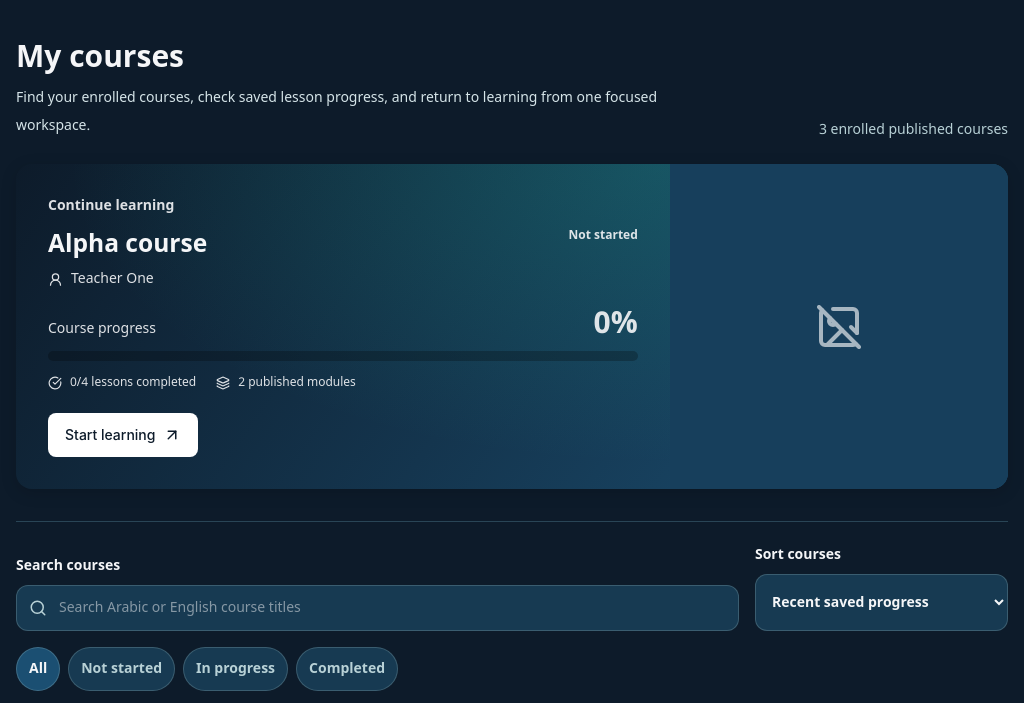
it: StudentCoursesLearningHub › requests and renders a server progress filter
Expected: the heading "Alpha course" is shown, [48,228,207,261]
Click the button "Completed" at (347, 669), box [296,647,398,691]
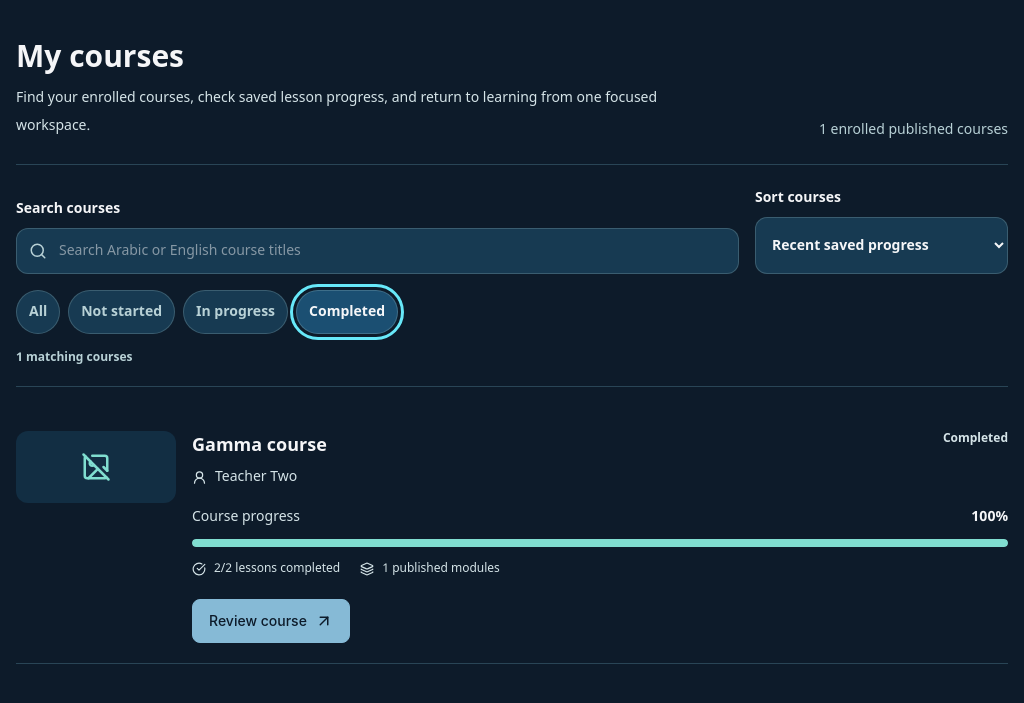
Expected: the heading "Gamma course" is shown, [192,431,327,459]
Expected: the heading "Alpha course" is gone
